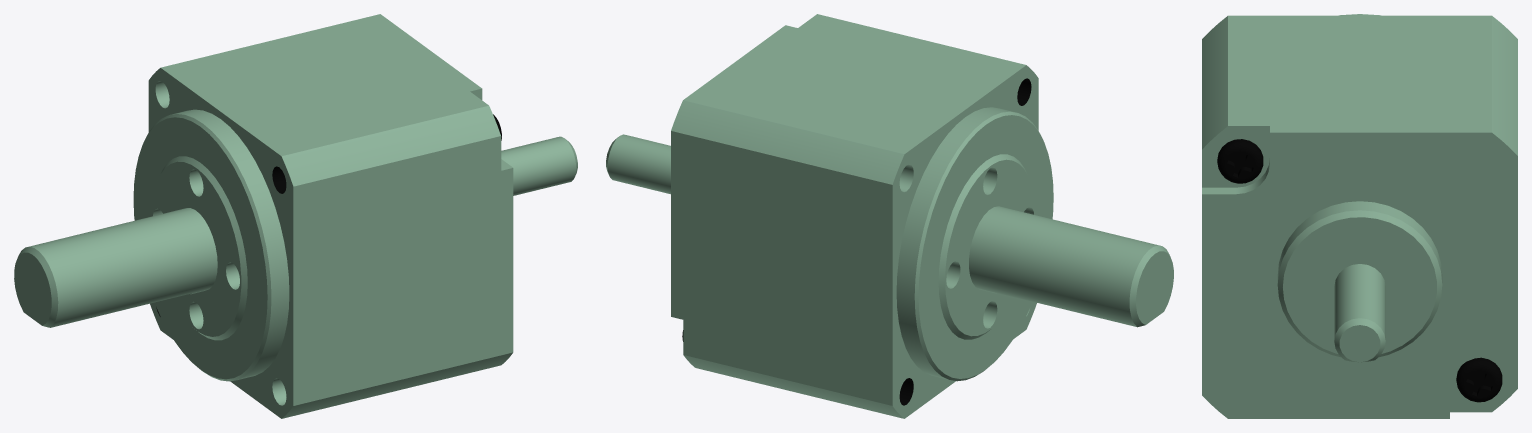
File: Main_CSF-8-30-1U_v2_1.dae
3 renders of one model, left to right at view 1: azimuth 30°, elevation 25°; view 2: azimuth 150°, elevation 25°; view 3: azimuth 270°, elevation 25°, orthographic. The views are drawn at different scales.
Visible parts, largest first — view 1: Main_CSF-8-30-1U_v2_1; view 2: Main_CSF-8-30-1U_v2_1; view 3: Main_CSF-8-30-1U_v2_1.
Boxes of the visible parts, x1,y1,x2,y2 form: Main_CSF-8-30-1U_v2_1: [14, 14, 577, 418]; Main_CSF-8-30-1U_v2_1: [606, 14, 1173, 418]; Main_CSF-8-30-1U_v2_1: [1202, 14, 1517, 418].
Bounding box in the file's own units: 0.0655 × 0.0307 × 0.0307.
